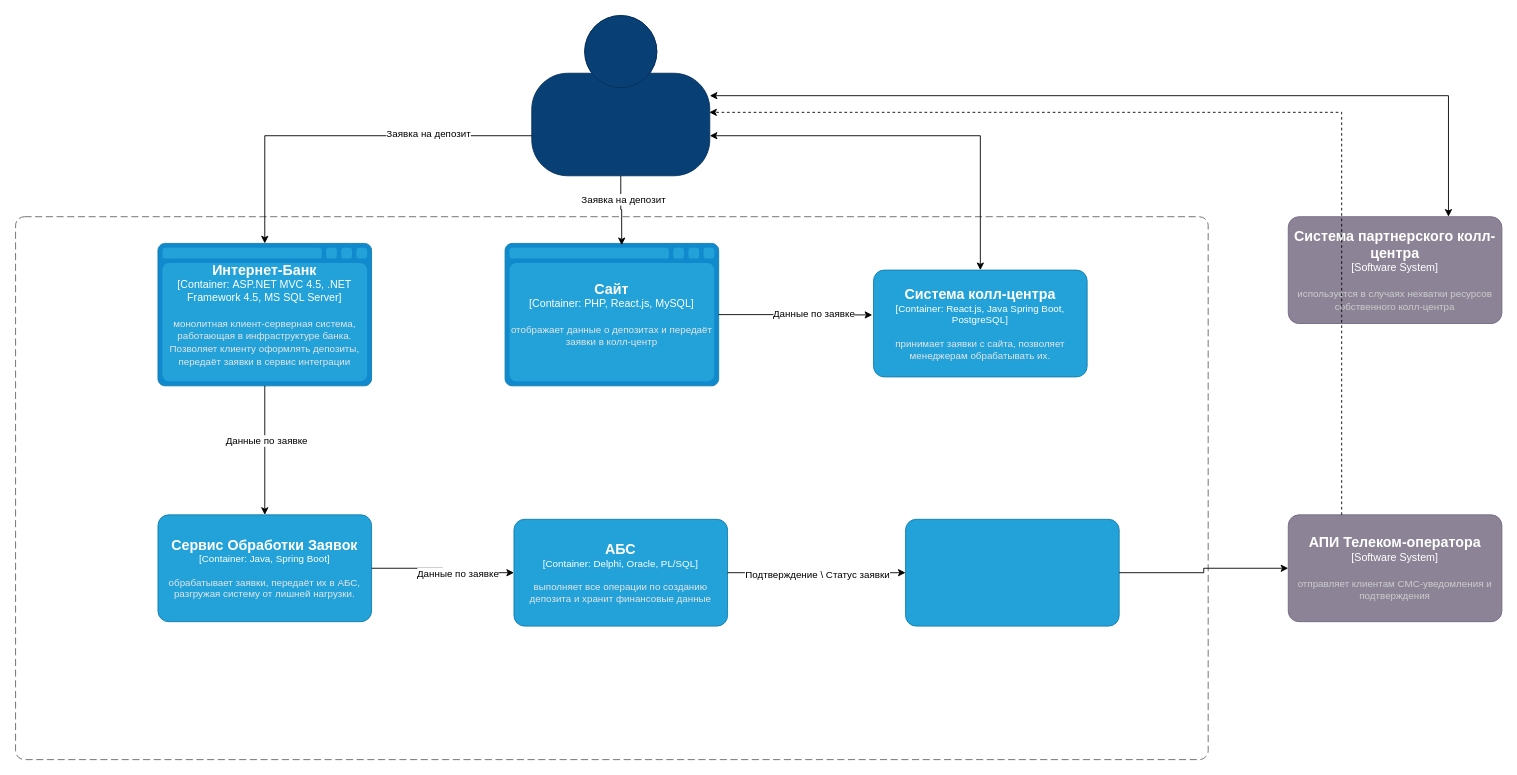
This 1517x775 diagram has some shape labels left out. The box of each missing label's shape, as (x1, y1, x2, y2) in pixels:
Клиент \ Потенциальный клиент [Person] Клиент: (531, 15, 710, 176)
Основной [ЦОД]: (15, 216, 1208, 760)
СМС-Шлюз [Container: ] интеграция с АПИ телеком-оператора: (905, 518, 1119, 626)
